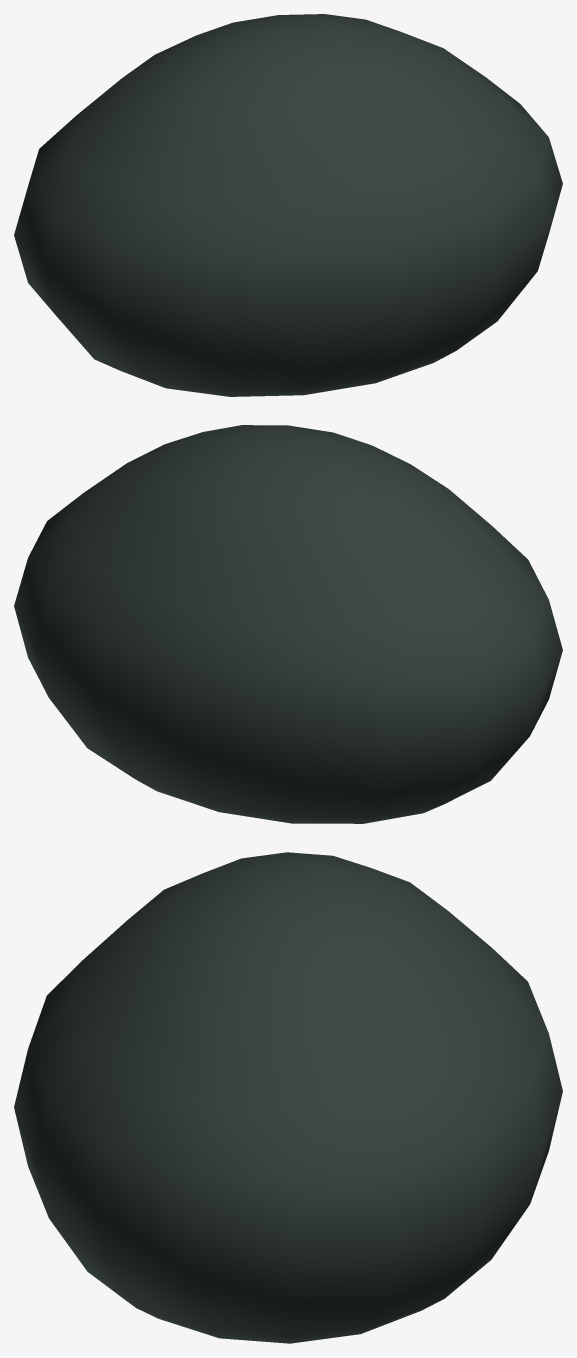
The model's file is Stone05.fbx.
The picture shows the model from 3 angles, top to bottom: view 1: azimuth 30°, elevation 25°; view 2: azimuth 150°, elevation 25°; view 3: azimuth 270°, elevation 25°; orthographic projection. The views are drawn at different scales.
Visible parts, largest first — view 1: Stone05; view 2: Stone05; view 3: Stone05.
Part boxes in pixels (left/top/right/bottom): Stone05: left=14, top=14, right=562, bottom=396; Stone05: left=14, top=425, right=562, bottom=823; Stone05: left=14, top=852, right=562, bottom=1343.
Bounding box in the file's own units: 88.64 × 54.19 × 70.95.
